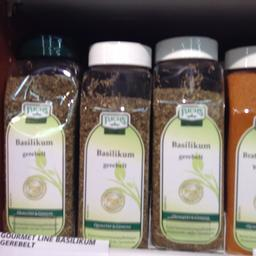spices: (152, 34, 224, 252), (2, 30, 78, 236), (78, 38, 151, 252)
